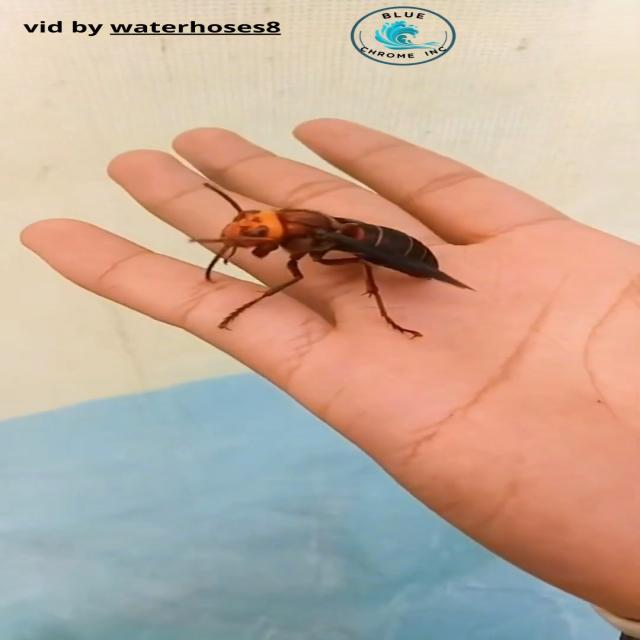Hornets: (181, 182, 478, 341)
